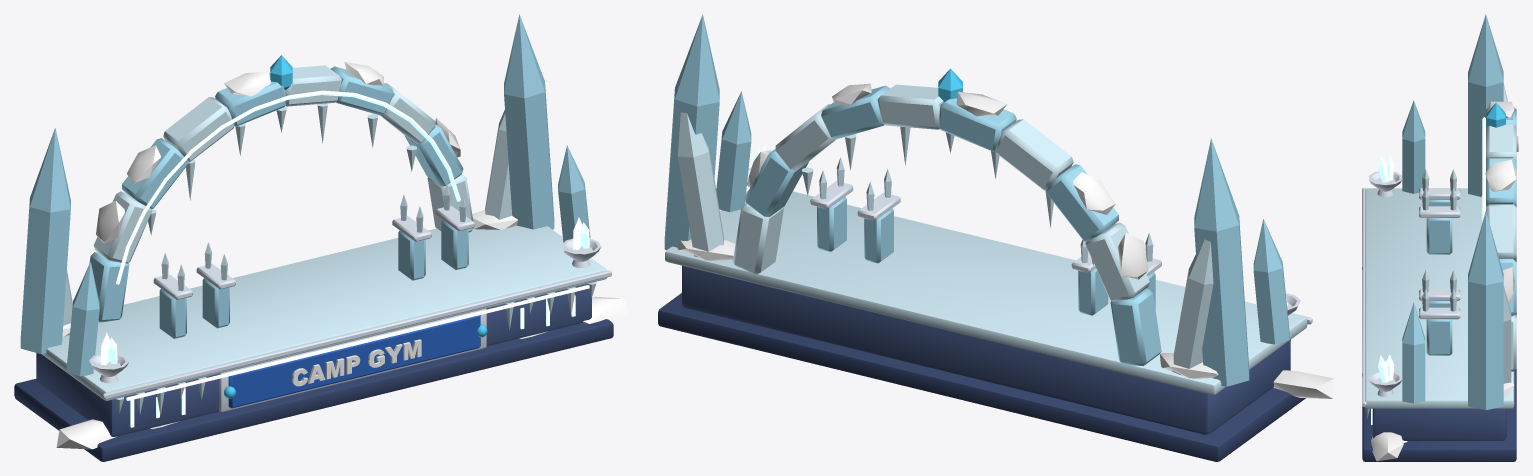
The model's file is st_10_frost.glb.
3 views of the same model, side by side, from view 1: azimuth 30°, elevation 25°; view 2: azimuth 150°, elevation 25°; view 3: azimuth 270°, elevation 25° (orthographic). The views are drawn at different scales.
Parts seen in each view (by area): view 1: st_10_frost; view 2: st_10_frost; view 3: st_10_frost.
Part boxes in pixels (left/top/right/bottom): st_10_frost: left=14, top=14, right=629, bottom=461; st_10_frost: left=658, top=14, right=1333, bottom=461; st_10_frost: left=1362, top=14, right=1518, bottom=461.
Bounding box in the file's own units: 11.05 × 5.4 × 3.04.
